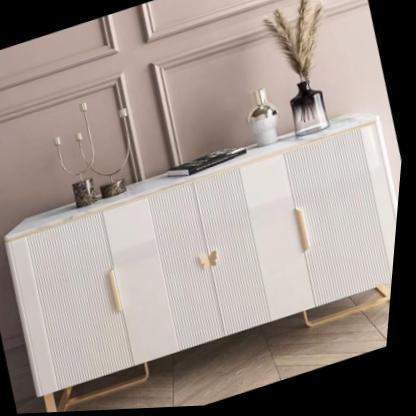Sideboard: (8, 117, 401, 413)
